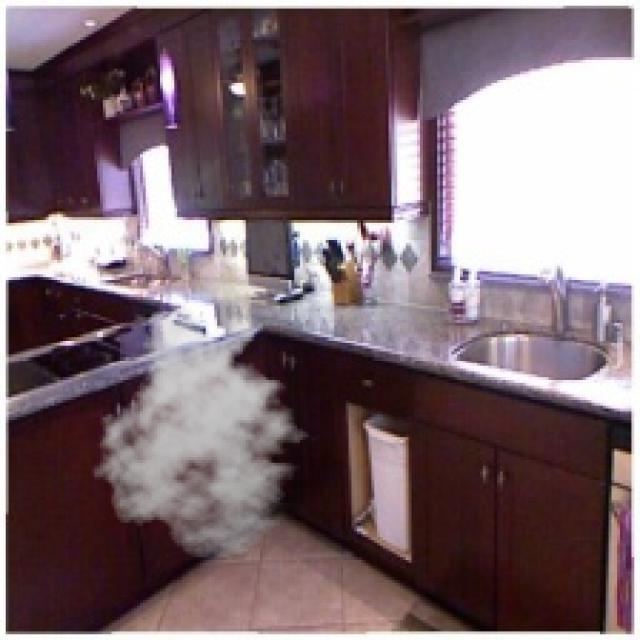Smoke: (86, 303, 320, 560)
